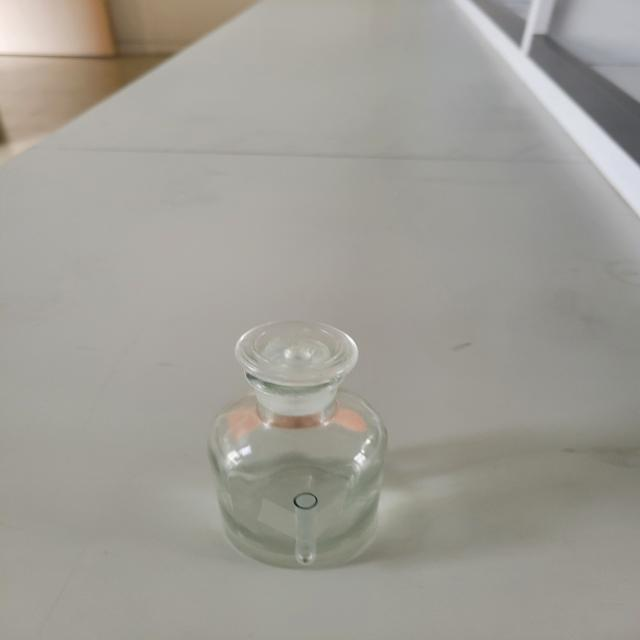Reagent_Bottle: (172, 292, 439, 596)
